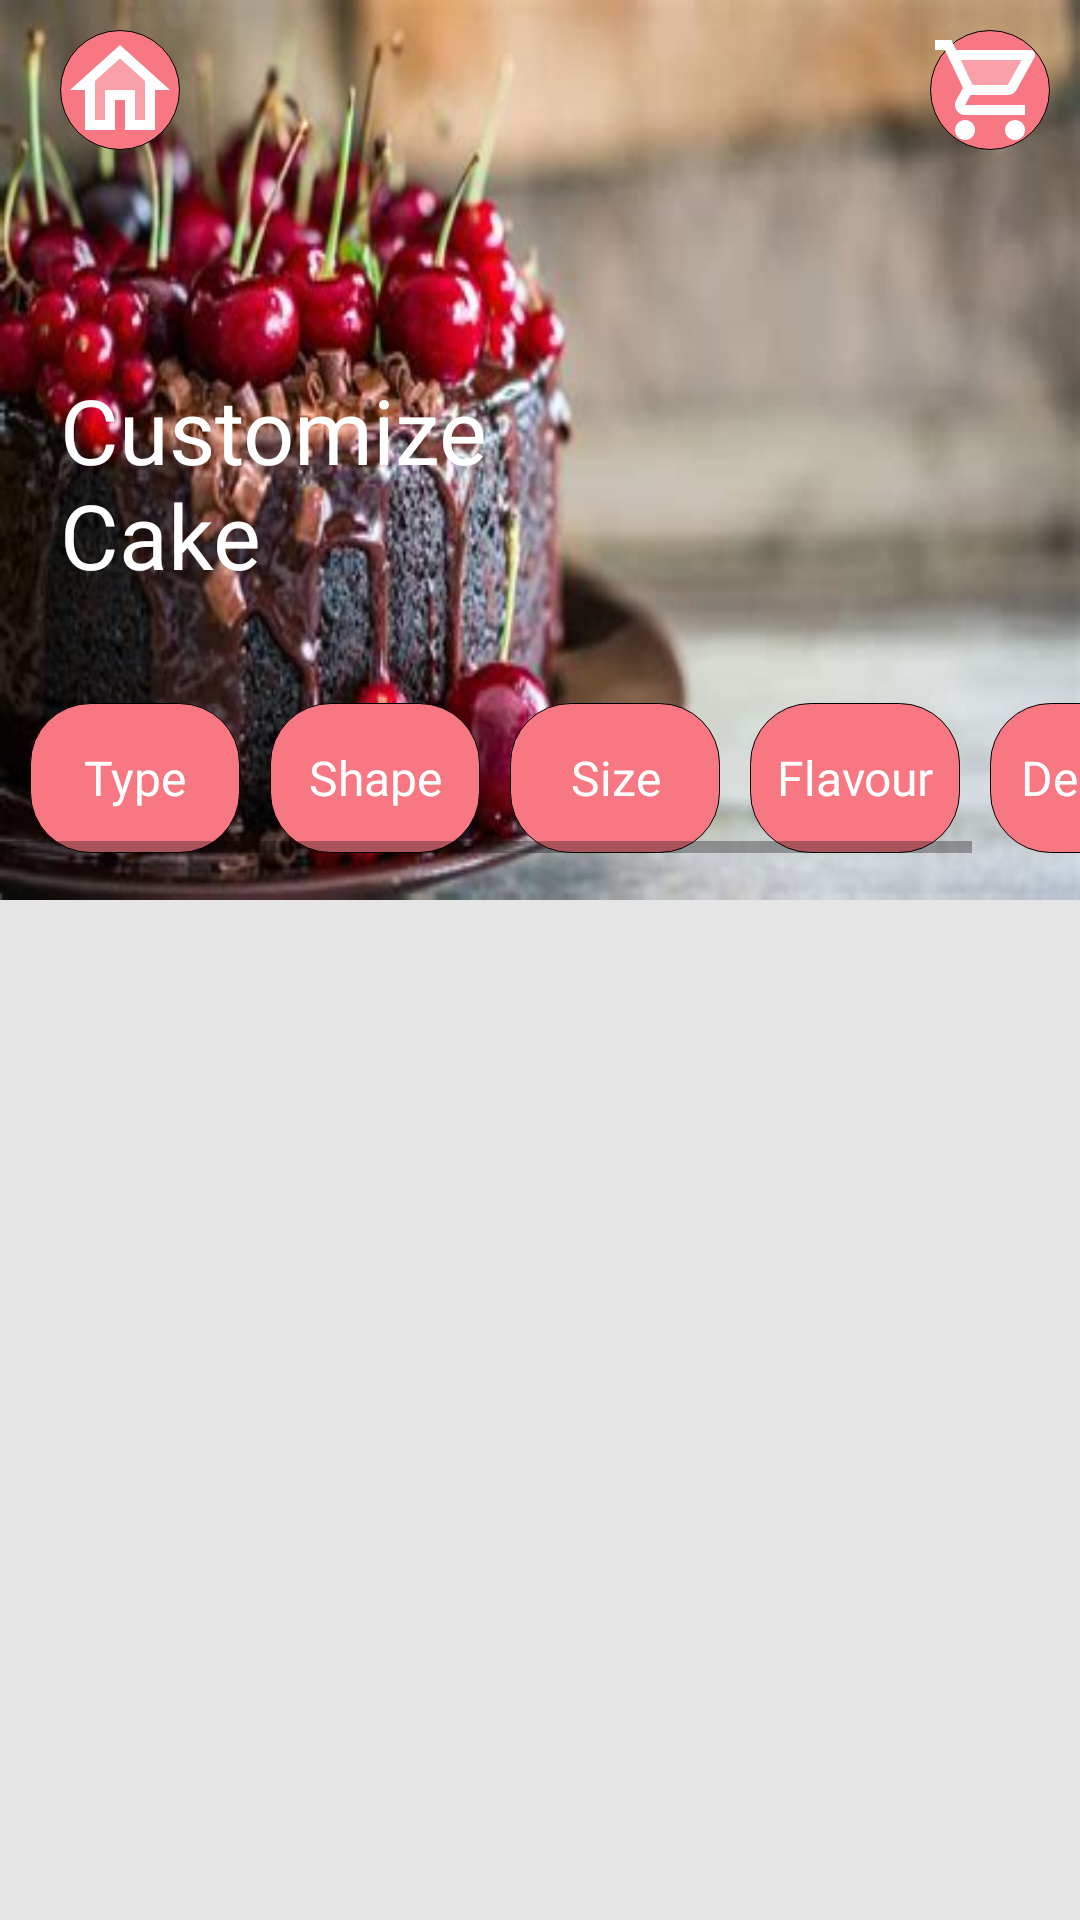

Named icons in this screenshot (1080x1920) and their centers, [x,y]:
cart: [990,90]
home: [120,90]
